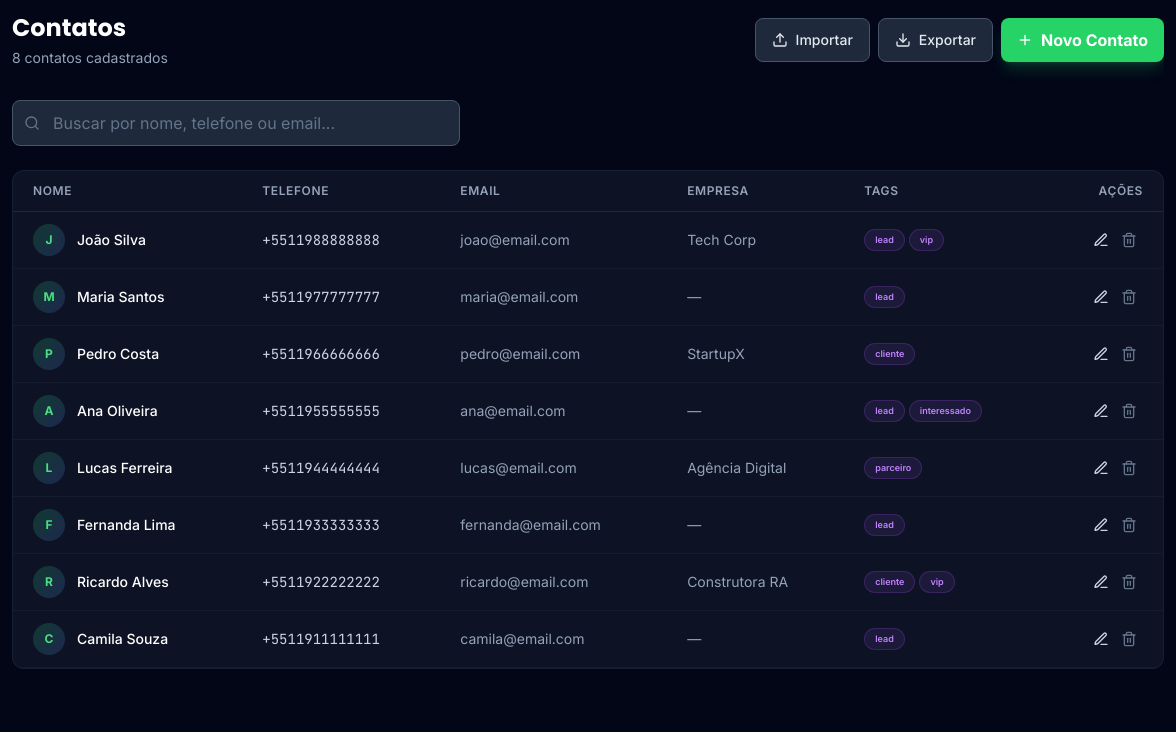
Test case: ContactsPage › should filter contacts based on search
Expected: the text "João Silva" is shown, [77, 230, 146, 250]
Type "Maria" into the field with placeholder "Buscar por nome, telefone ou email..." at (236, 123), box [12, 100, 460, 146]
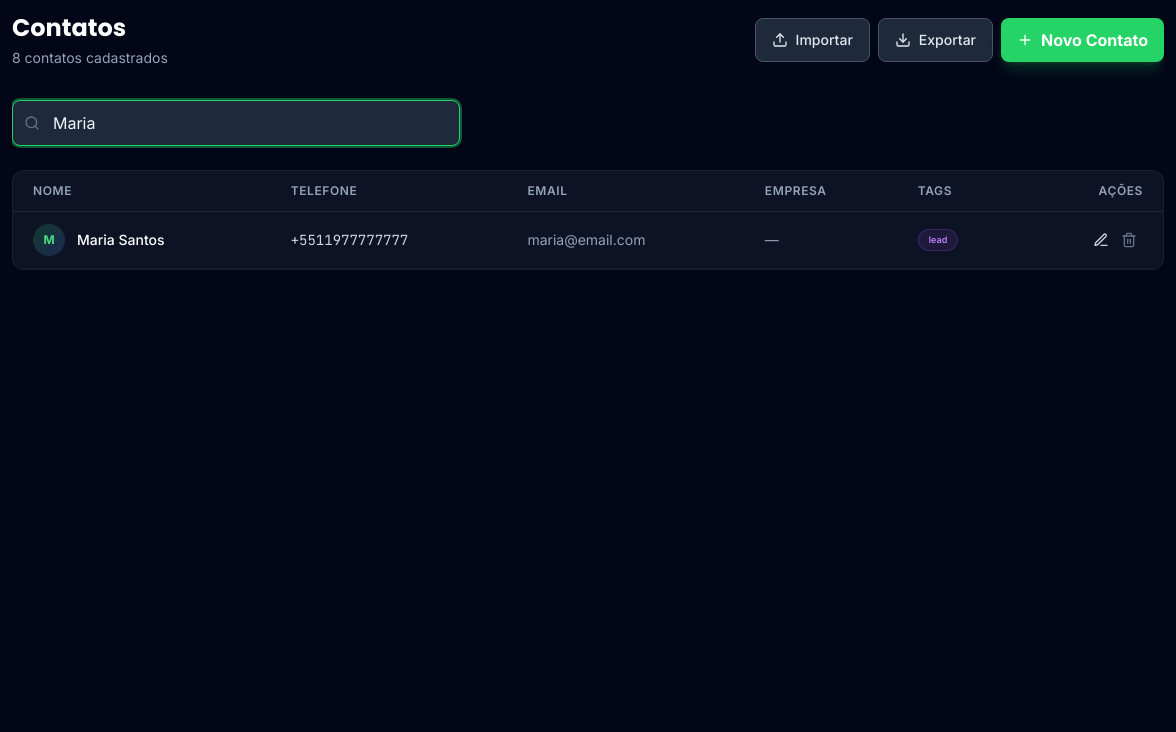
Expected: the text "Maria Santos" is shown, [77, 230, 164, 250]
Now the text "João Silva" is gone
